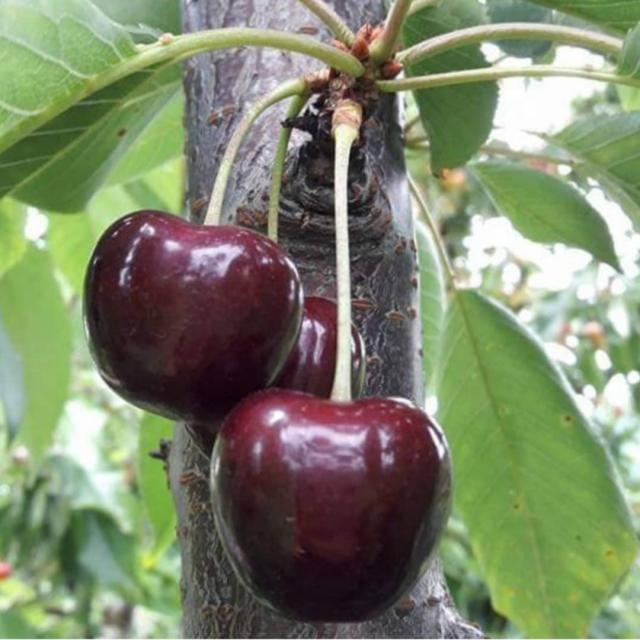cherry: (76, 73, 458, 622)
